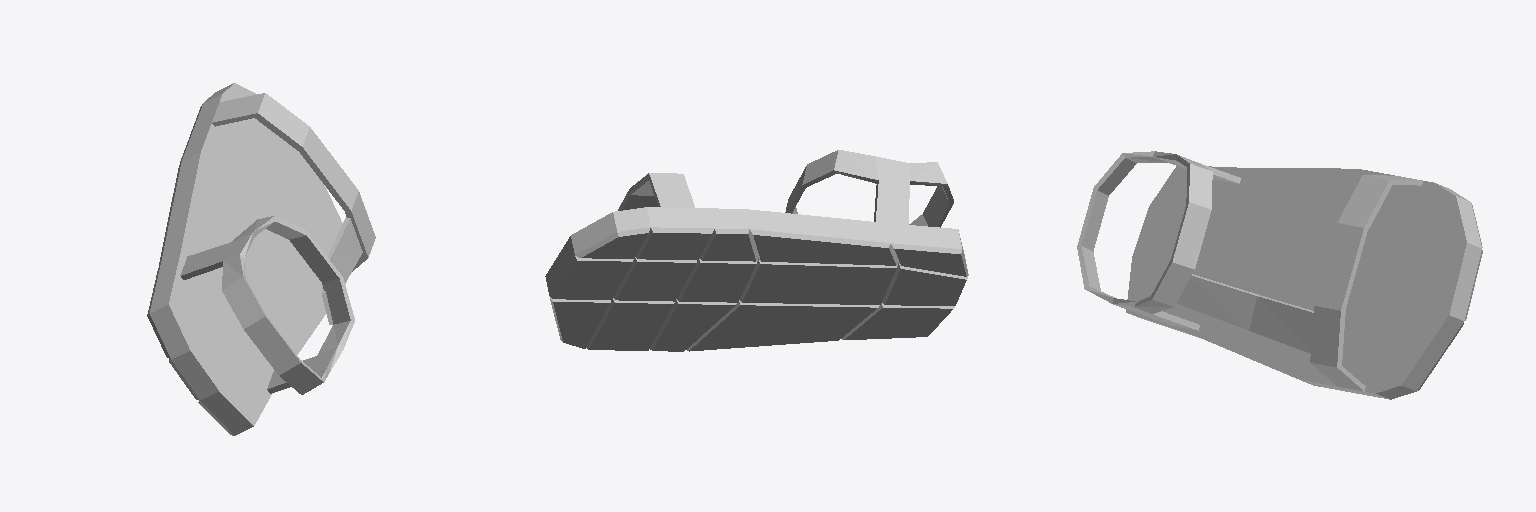
The picture shows the model from 3 angles: view 1: azimuth 30°, elevation 25°; view 2: azimuth 150°, elevation 25°; view 3: azimuth 270°, elevation 25°; orthographic projection.
Parts seen in each view (by area): view 1: Sandal_Cube.000; view 2: Sandal_Cube.000; view 3: Sandal_Cube.000.
Boxes of the visible parts, x1,y1,x2,y2 form: Sandal_Cube.000: [147, 83, 375, 435]; Sandal_Cube.000: [545, 150, 968, 351]; Sandal_Cube.000: [1077, 151, 1482, 399].
Bounding box in the file's own units: 0.6158 × 0.4188 × 0.7171.